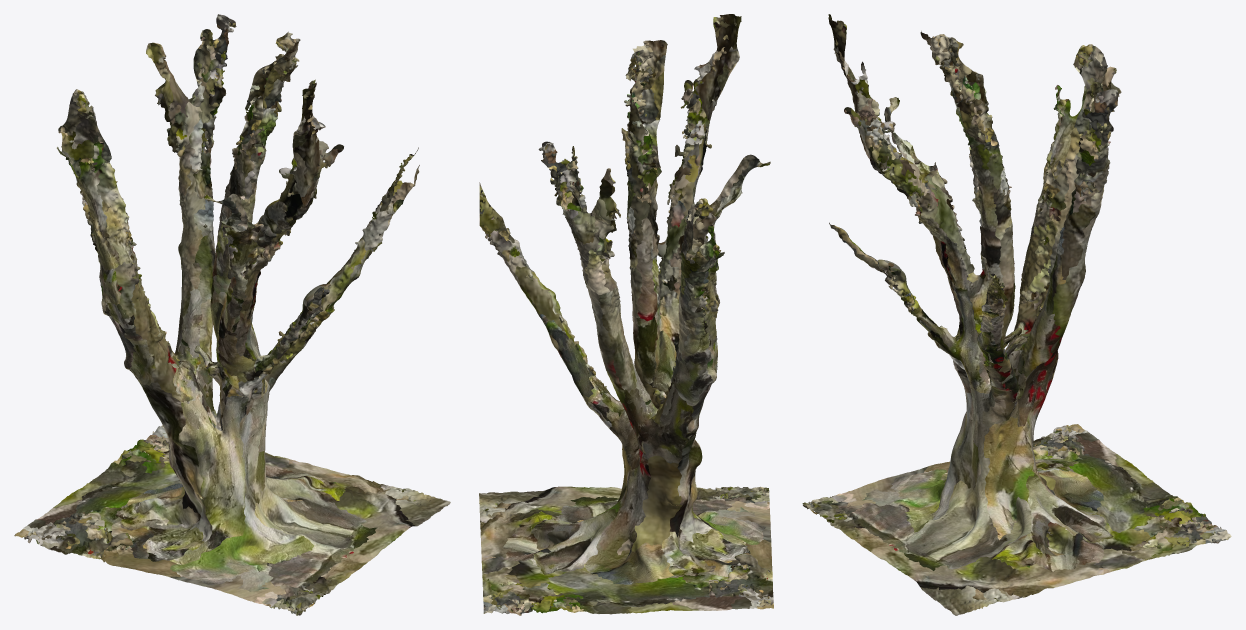
The model's file is saveme.glb.
3 renders of one model, left to right at view 1: azimuth 30°, elevation 25°; view 2: azimuth 150°, elevation 25°; view 3: azimuth 270°, elevation 25°, orthographic. The views are drawn at different scales.
Parts seen in each view (by area): view 1: Object; view 2: Object; view 3: Object.
Boxes of the visible parts, left/top/right/bottom form: Object: left=14, top=14, right=450, bottom=615; Object: left=479, top=14, right=773, bottom=615; Object: left=802, top=14, right=1231, bottom=615.
Bounding box in the file's own units: 2.91 × 3.8 × 2.95.
Materials: 1 (1 with a texture image).
